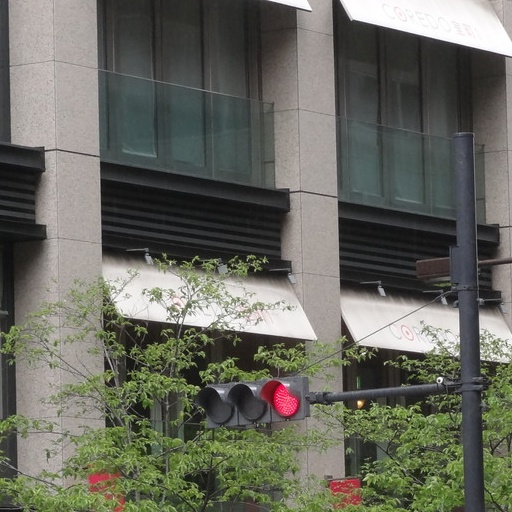Traffic_Signal_Red: (190, 375, 317, 431)
